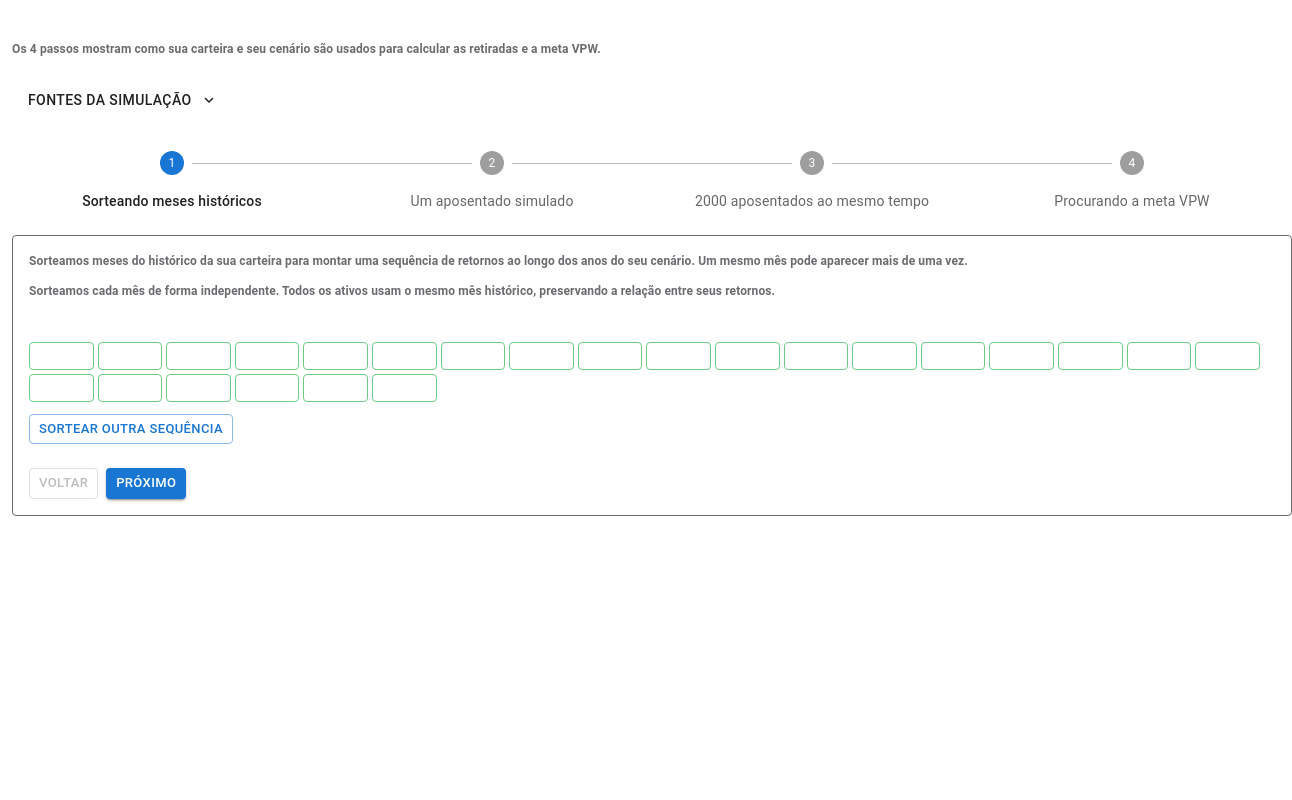
Test case: handles a plan where no simulation starts retirement without inventing a success rate
Click the button "3 2000 aposentados ao mesmo tempo" at coordinates (812, 200), box [695,150,929,208]
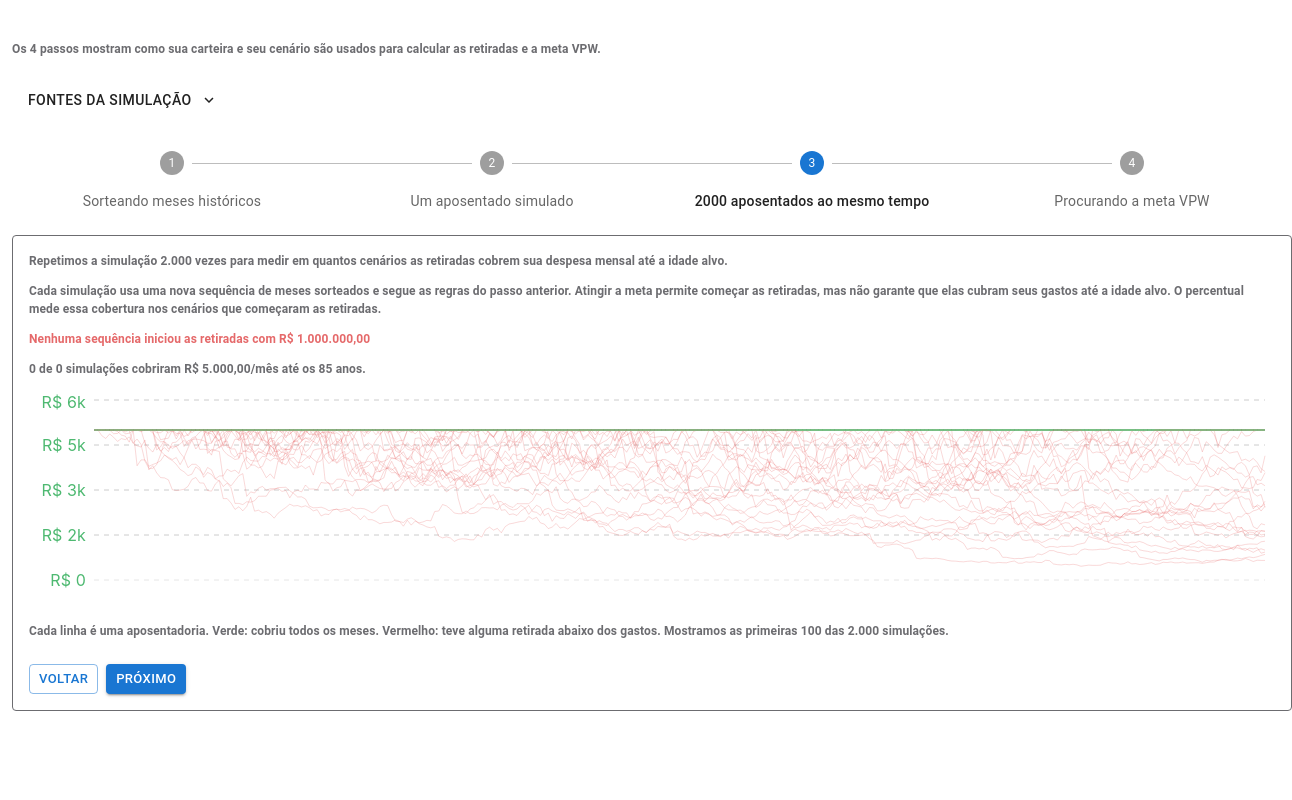
Now the text "Nenhuma sequência iniciou as retiradas com R$ 1.000.000,00" is shown, box [29,332,370,346]
